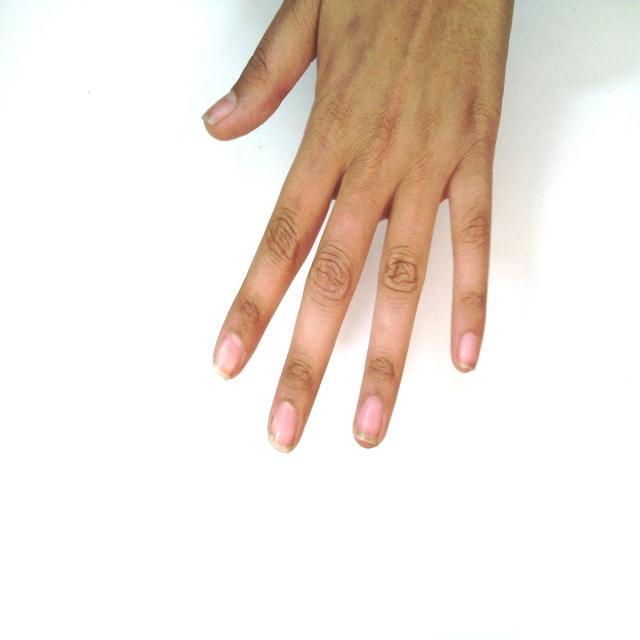Fingernail: (356, 396, 384, 446), (270, 401, 296, 452), (203, 94, 236, 128), (216, 335, 241, 377), (459, 333, 477, 369)
